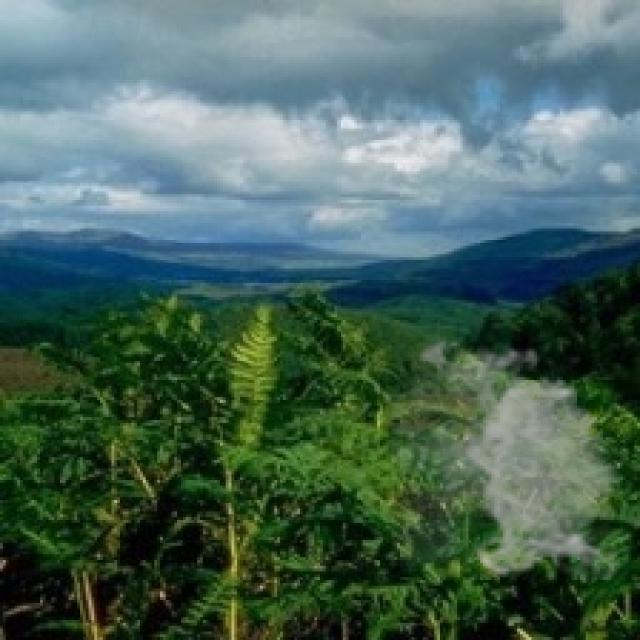smoke: (392, 331, 632, 580)
